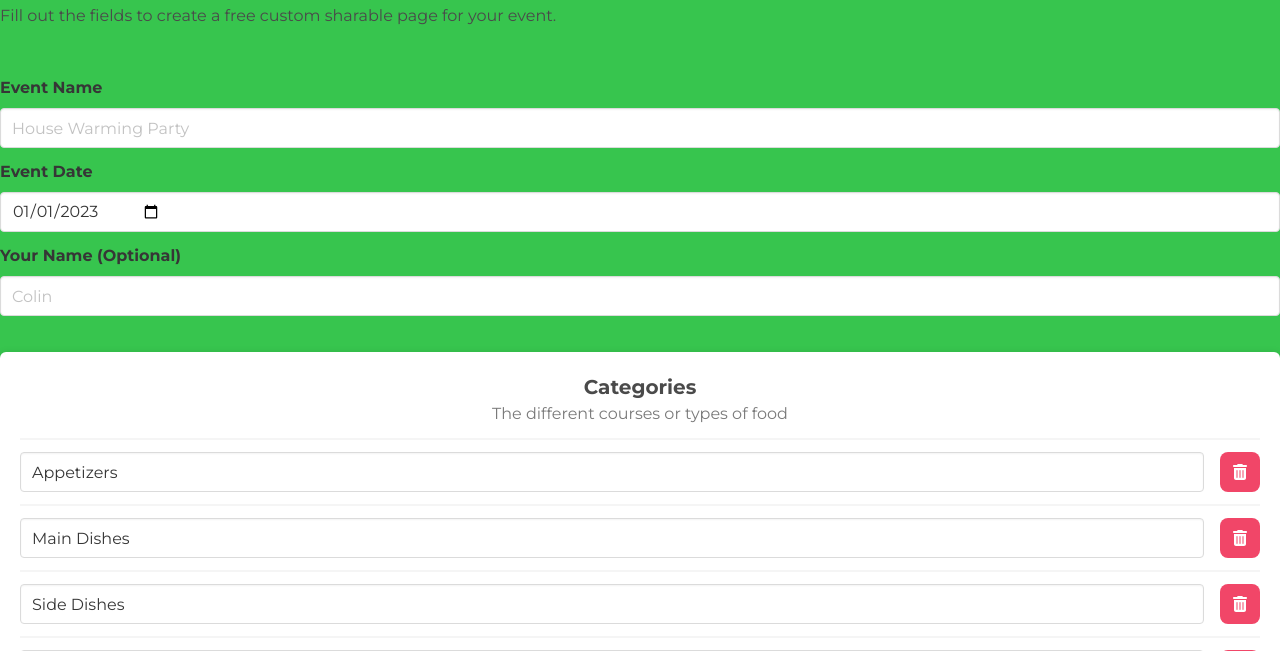
Test: New Page › should delete a category on delete button click
Click the 3rd button named "delete" at (1240, 604), box left=1220, top=584, right=1260, bottom=624
(page scrolled)
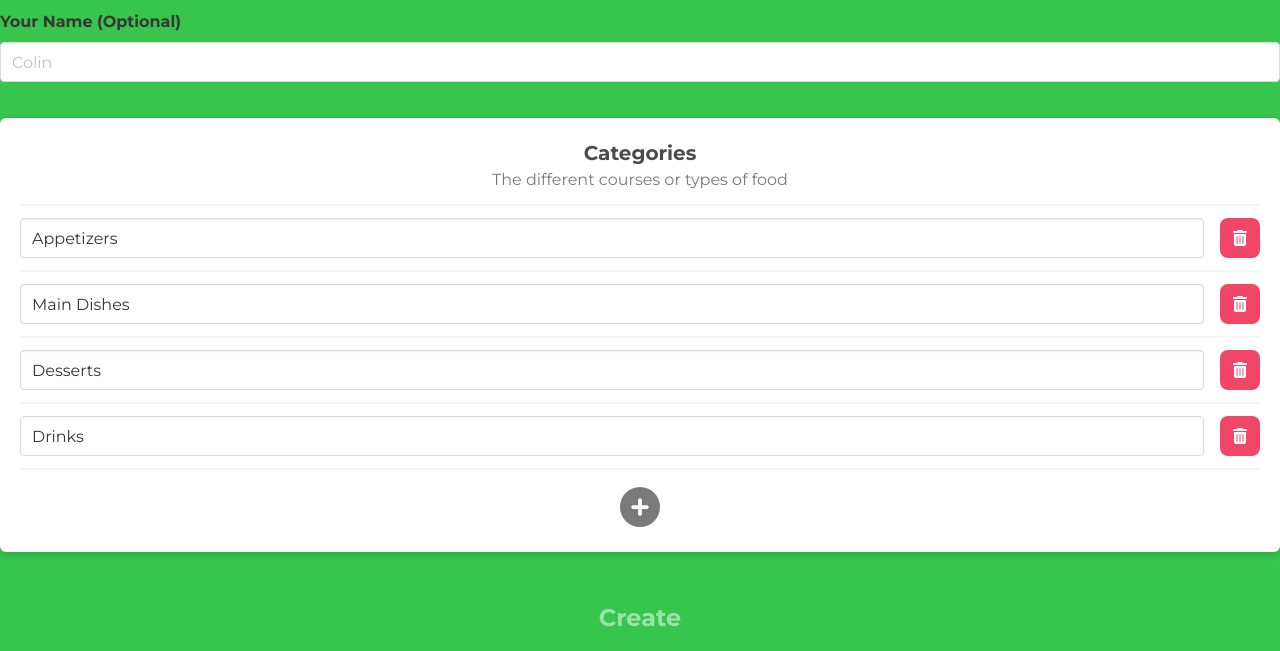
Expected: the 1st field with placeholder "Category" holds "Appetizers", left=20, top=218, right=1204, bottom=258
Expected: the number of fields with placeholder "Category" is 4, left=20, top=218, right=1204, bottom=258; left=20, top=284, right=1204, bottom=324; left=20, top=350, right=1204, bottom=390; left=20, top=416, right=1204, bottom=456
